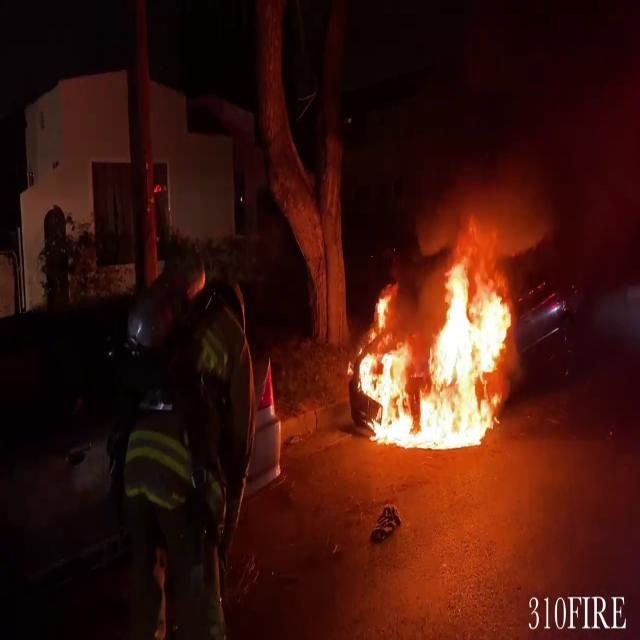Fire: (354, 236, 526, 451)
Smoke: (420, 79, 640, 280)
